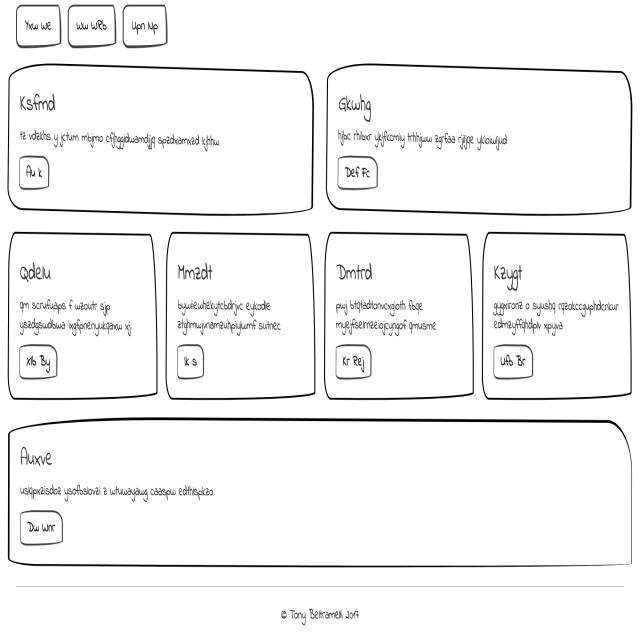Button: (14, 506, 66, 550), (332, 148, 380, 195), (16, 340, 60, 380), (492, 342, 535, 381), (16, 152, 54, 196), (334, 343, 373, 383), (175, 345, 204, 384)
Card: (6, 420, 636, 577), (323, 58, 635, 219), (7, 60, 318, 219), (4, 230, 161, 404), (480, 232, 634, 406), (324, 232, 477, 407), (166, 233, 320, 406)
Footer: (3, 586, 639, 640)
Heading 6: (14, 80, 65, 121), (173, 252, 218, 288), (489, 253, 529, 293), (335, 86, 378, 123), (15, 254, 56, 289), (335, 256, 379, 286), (14, 442, 56, 471)
Navigation Bar: (11, 0, 175, 58)
Paragraph: (17, 123, 224, 153), (18, 476, 216, 504), (492, 296, 621, 338), (175, 293, 282, 341), (332, 124, 508, 152), (333, 292, 442, 336), (17, 297, 135, 337)
